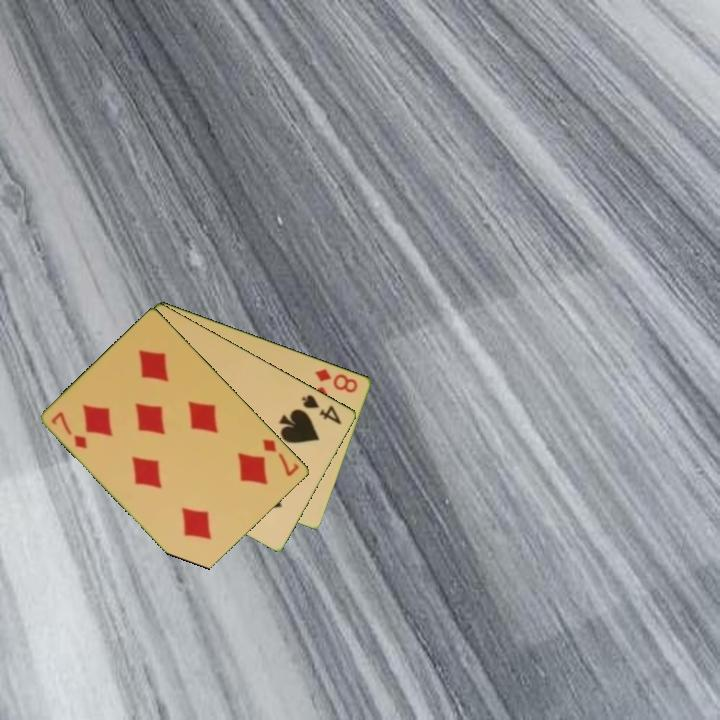4s: (298, 391, 345, 427)
7d: (259, 435, 302, 480), (48, 408, 91, 452)
8d: (311, 365, 361, 396)
